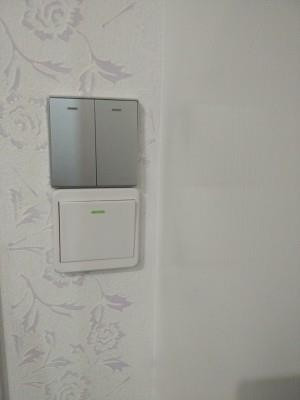switch: (57, 195, 140, 264), (52, 100, 97, 185), (100, 100, 136, 183)
